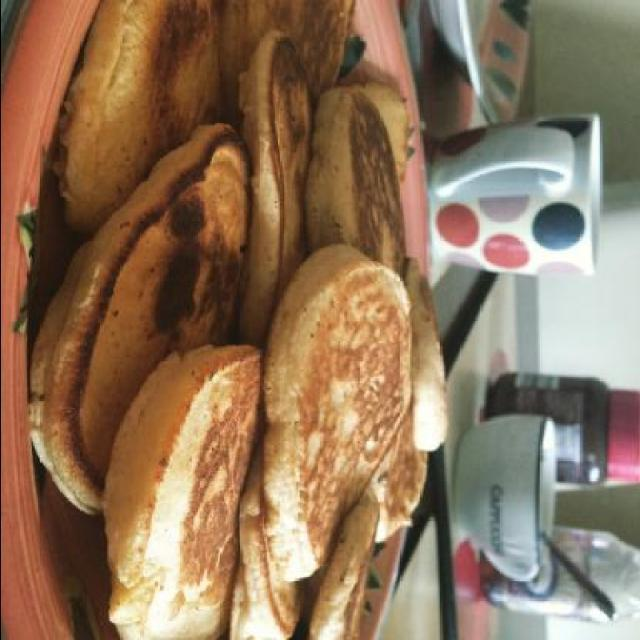Pancake: (29, 0, 452, 640)
